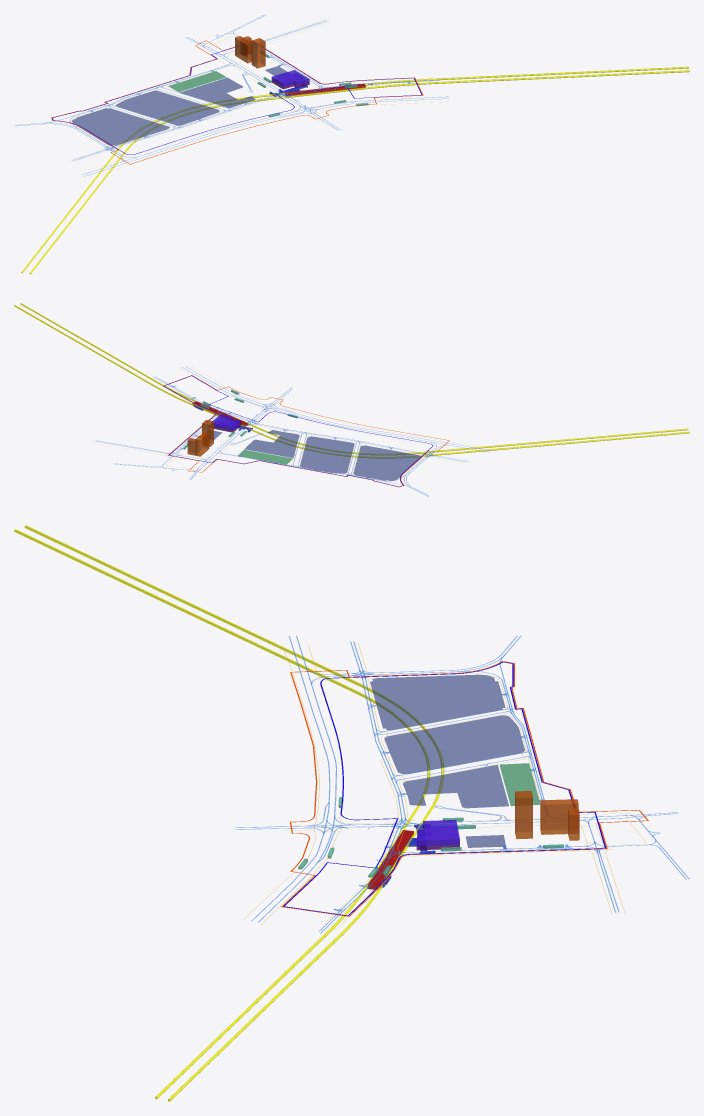
Rendered from MODEL_LAYERS.FBX.
3 views of the same model, one above another, from view 1: azimuth 30°, elevation 25°; view 2: azimuth 150°, elevation 25°; view 3: azimuth 270°, elevation 25° (orthographic). The views are drawn at different scales.
Visible parts, largest first — view 1: L_Parking_Intercapting, L_DM_Subway_Line_Av, L_DM_Traffic_Car, L_BORDER_PPT, L_BORDER_GZRO, L_LiveHouse, L_ORP, L_TPU; view 2: L_Parking_Intercapting, L_DM_Subway_Line_Av, L_DM_Traffic_Car, L_BORDER_PPT, L_BORDER_GZRO, L_LiveHouse, L_ORP, L_Pedestrian_traffic, L_TPU; view 3: L_Parking_Intercapting, L_DM_Subway_Line_Av, L_DM_Traffic_Car, L_LiveHouse, L_Pedestrian_traffic, L_BORDER_PPT, L_BORDER_GZRO, L_ORP, L_TPU.
Part boxes in pixels (x1=…): L_Parking_Intercapting: x1=72, y1=77, x2=255, y2=145; L_DM_Subway_Line_Av: x1=21, y1=66, x2=689, y2=274; L_DM_Traffic_Car: x1=14, y1=14, x2=447, y2=176; L_BORDER_PPT: x1=51, y1=40, x2=423, y2=164; L_BORDER_GZRO: x1=52, y1=47, x2=422, y2=154; L_LiveHouse: x1=235, y1=36, x2=265, y2=68; L_ORP: x1=168, y1=71, x2=225, y2=91; L_TPU: x1=271, y1=70, x2=309, y2=86; L_Parking_Intercapting: x1=245, y1=430, x2=421, y2=480; L_DM_Subway_Line_Av: x1=14, y1=303, x2=689, y2=458; L_DM_Traffic_Car: x1=96, y1=367, x2=490, y2=496; L_BORDER_PPT: x1=163, y1=375, x2=449, y2=487; L_BORDER_GZRO: x1=164, y1=375, x2=433, y2=486; L_LiveHouse: x1=187, y1=420, x2=213, y2=456; L_ORP: x1=237, y1=449, x2=292, y2=464; L_Pedestrian_traffic: x1=94, y1=367, x2=480, y2=474; L_TPU: x1=212, y1=414, x2=240, y2=430; L_Parking_Intercapting: x1=370, y1=674, x2=524, y2=808; L_DM_Subway_Line_Av: x1=14, y1=525, x2=444, y2=1101; L_DM_Traffic_Car: x1=234, y1=636, x2=689, y2=933; L_LiveHouse: x1=515, y1=791, x2=579, y2=840; L_Pedestrian_traffic: x1=243, y1=643, x2=645, y2=929; L_BORDER_PPT: x1=281, y1=661, x2=648, y2=916; L_BORDER_GZRO: x1=283, y1=662, x2=605, y2=915; L_ORP: x1=499, y1=763, x2=540, y2=806; L_TPU: x1=416, y1=820, x2=459, y2=846.
Bounding box in the file's own units: 2621 × 97.84 × 1303.
